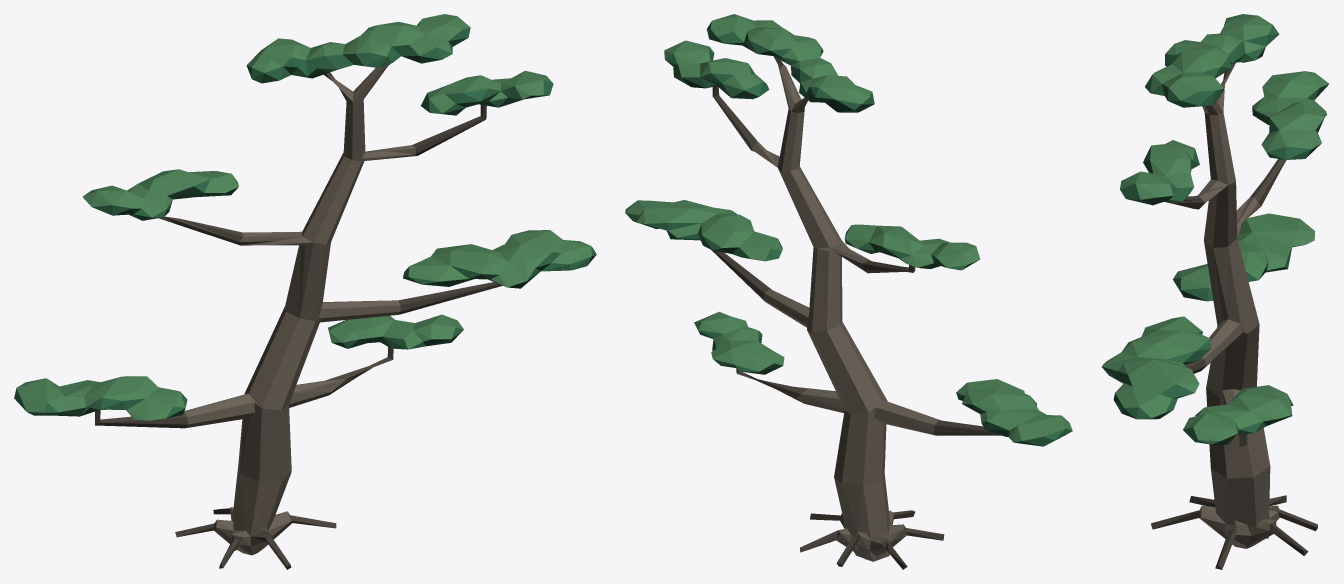
Rendered from ancient-pine-820-lod2.glb.
3 renders of one model, left to right at view 1: azimuth 30°, elevation 25°; view 2: azimuth 150°, elevation 25°; view 3: azimuth 270°, elevation 25°, orthographic. The views are drawn at different scales.
Visible parts, largest first — view 1: n8.006, n12.006, n11.006, n9.006, n10.006; view 2: n8.006, n12.006, n9.006, n11.006, n10.006; view 3: n12.006, n8.006, n11.006, n9.006, n10.006.
Part boxes in pixels (left/top/right/bottom): n8.006: left=184, top=64, right=417, bottom=555; n12.006: left=16, top=14, right=591, bottom=420; n11.006: left=14, top=27, right=596, bottom=418; n9.006: left=95, top=64, right=502, bottom=569; n10.006: left=27, top=38, right=596, bottom=417; n8.006: left=751, top=64, right=939, bottom=561; n12.006: left=625, top=14, right=1072, bottom=442; n9.006: left=711, top=56, right=1001, bottom=569; n11.006: left=625, top=21, right=1072, bottom=446; n10.006: left=633, top=37, right=1070, bottom=446; n12.006: left=1102, top=14, right=1328, bottom=440; n8.006: left=1197, top=71, right=1279, bottom=548; n11.006: left=1102, top=20, right=1324, bottom=444; n9.006: left=1151, top=62, right=1317, bottom=569; n10.006: left=1102, top=47, right=1328, bottom=444.
Bounding box in the file's own units: 5.77 × 5.42 × 2.
